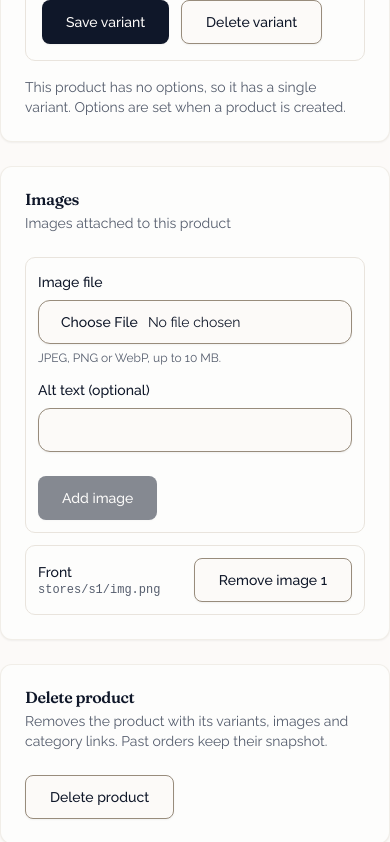
Test: ProductEditor › keeps the product and shows the error when deletion fails
(page scrolled)
Step 1. Click the button "Delete product" → (100, 797), box [25,775,174,819]
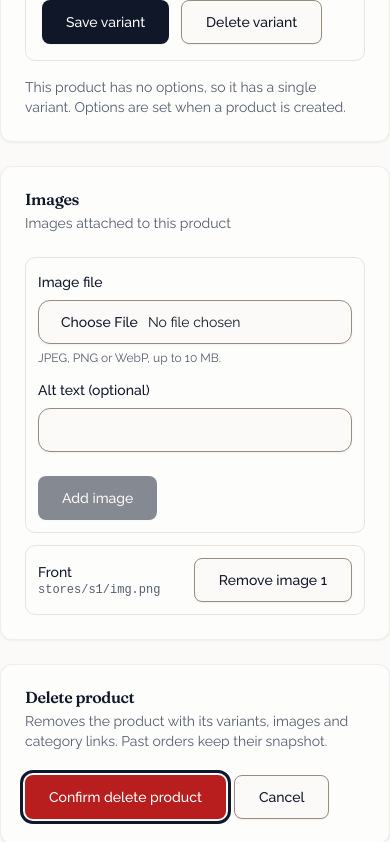
Step 2. Click the button "Confirm delete product" → (125, 797), box [25,775,226,819]
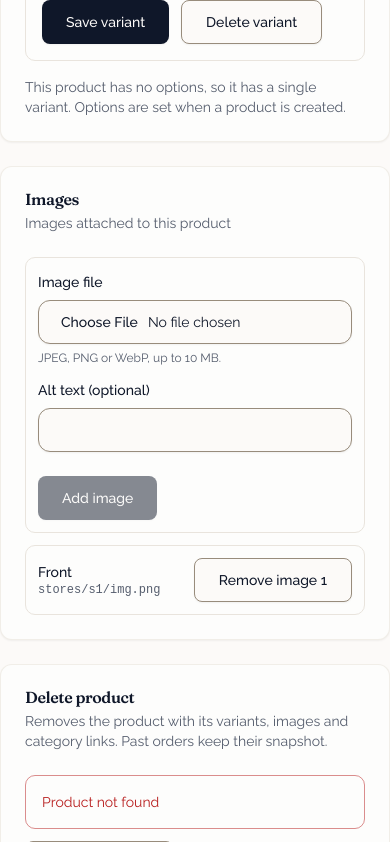
Now the text "Product not found" is shown, box [42,794,159,810]
